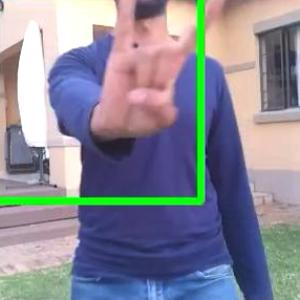takeoff-hand: (91, 0, 235, 147)
